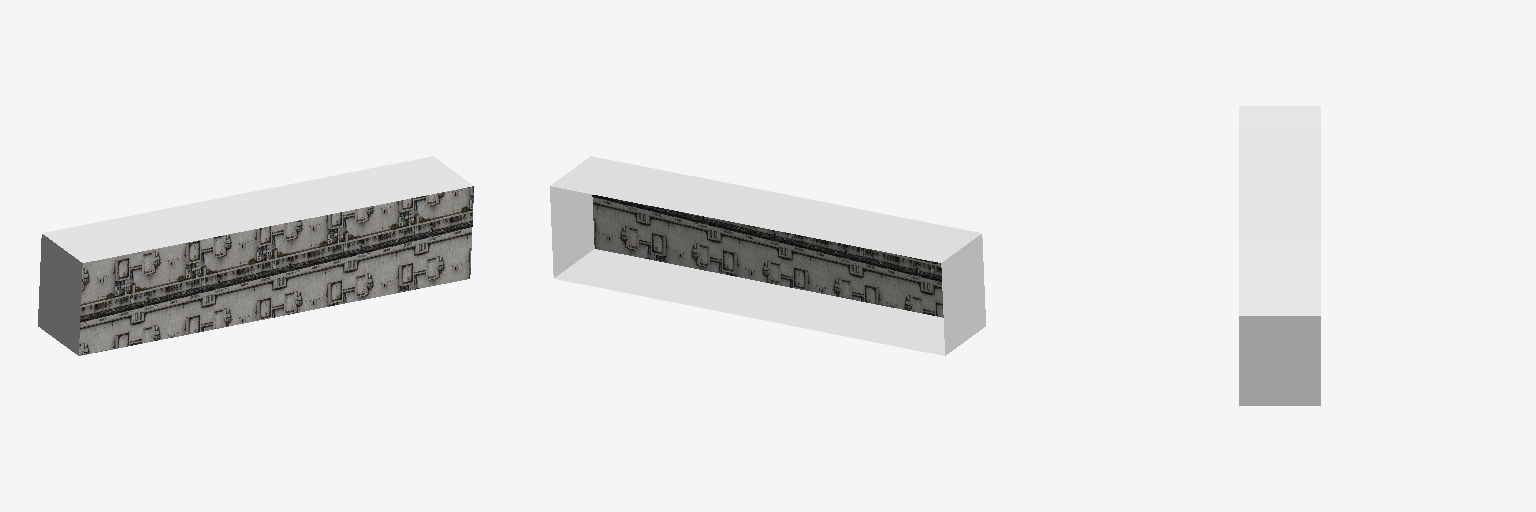
3 views of the same model, side by side, from view 1: azimuth 30°, elevation 25°; view 2: azimuth 150°, elevation 25°; view 3: azimuth 270°, elevation 25° (orthographic).
Parts seen in each view (by area): view 1: Building; view 2: Building; view 3: Building.
Part boxes in pixels (x1,y1,x2,y2): Building: (38, 156, 473, 355); Building: (550, 156, 985, 355); Building: (1239, 106, 1320, 405).
Bounding box in the file's own units: 16.71 × 4.45 × 3.
2 materials, 1 textured.